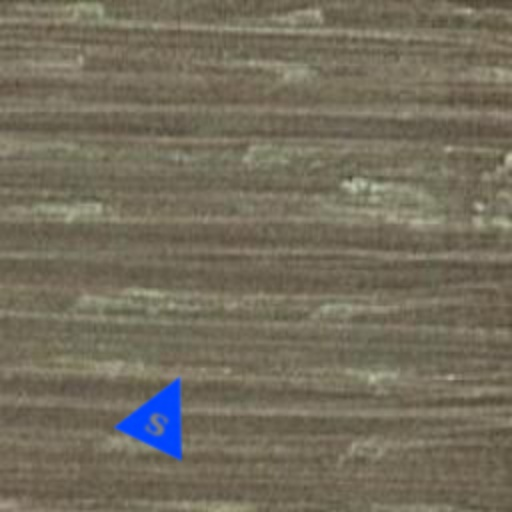triangle: (112, 358, 216, 462)
